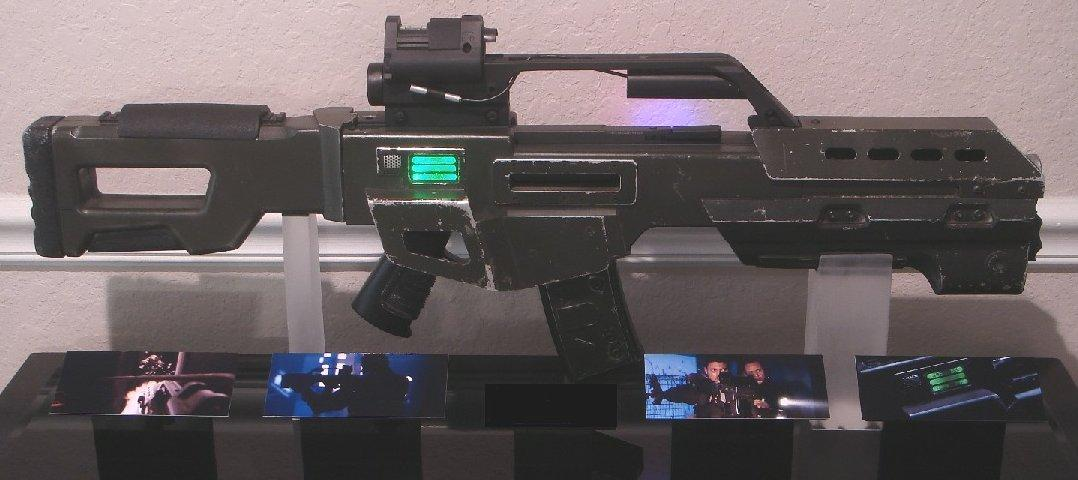rifle: (20, 11, 1049, 387)
